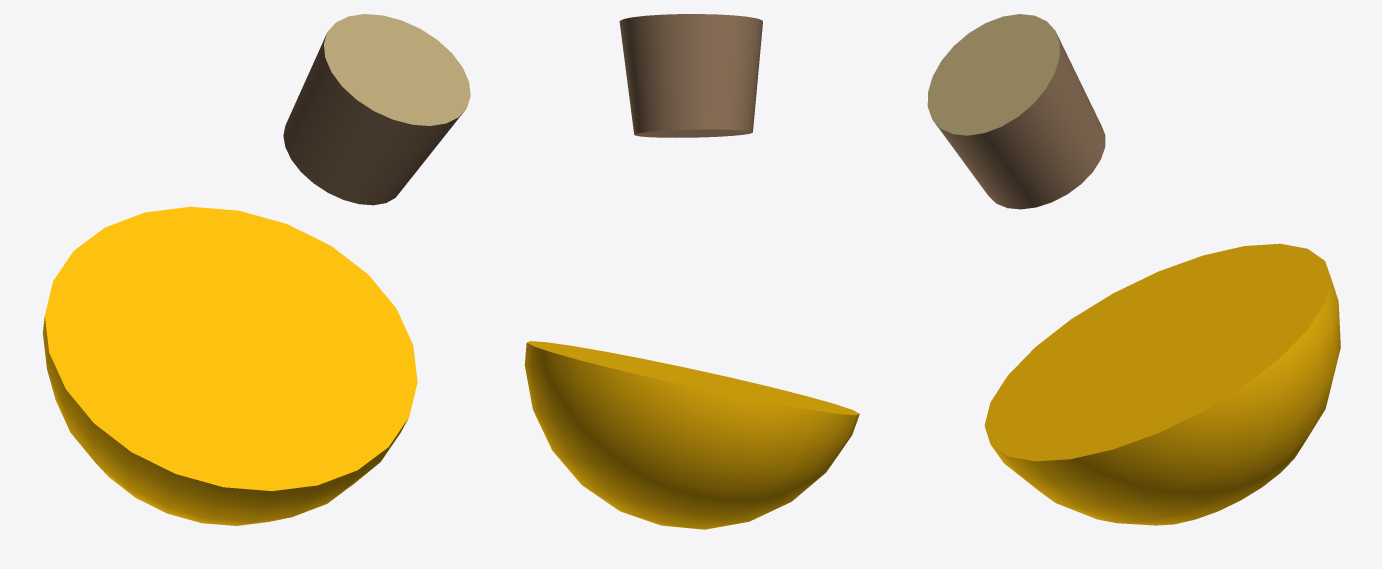
The model's file is Item_Potion.FBX.
3 views of the same model, side by side, from view 1: azimuth 30°, elevation 25°; view 2: azimuth 150°, elevation 25°; view 3: azimuth 270°, elevation 25° (orthographic). The views are drawn at different scales.
Visible parts, largest first — view 1: Item_Potion; view 2: Item_Potion; view 3: Item_Potion.
Part boxes in pixels (x1=…): Item_Potion: x1=42, y1=14, x2=470, y2=525; Item_Potion: x1=524, y1=14, x2=859, y2=529; Item_Potion: x1=927, y1=14, x2=1340, y2=525.
Bounding box in the file's own units: 3.41 × 4.52 × 3.38.
